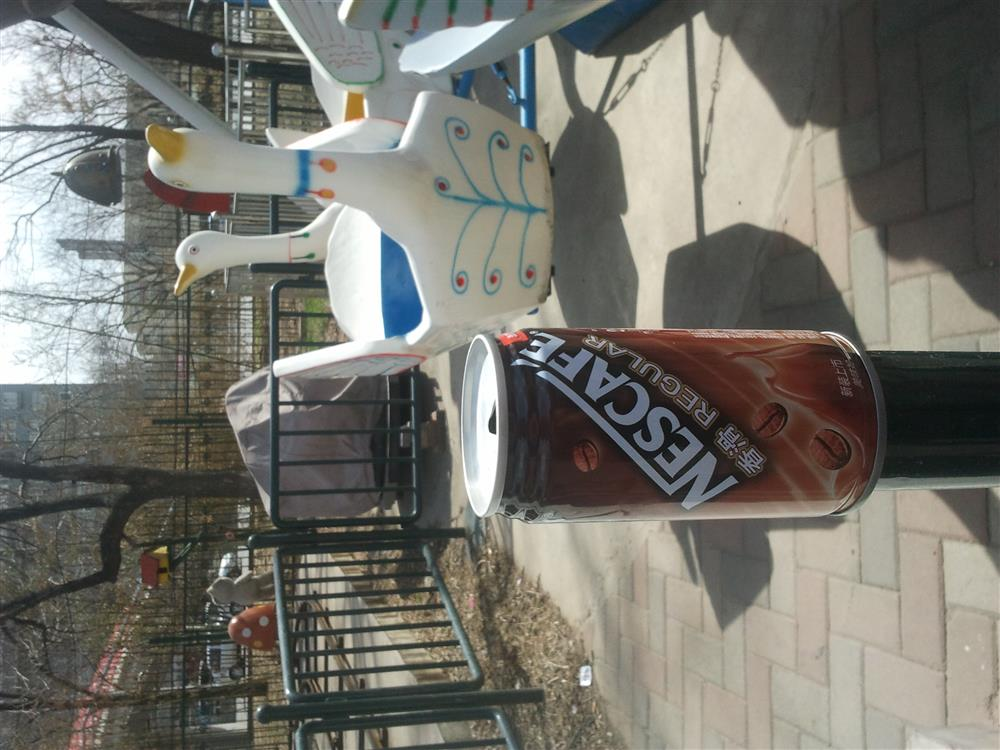nescafe: (449, 320, 887, 522)
